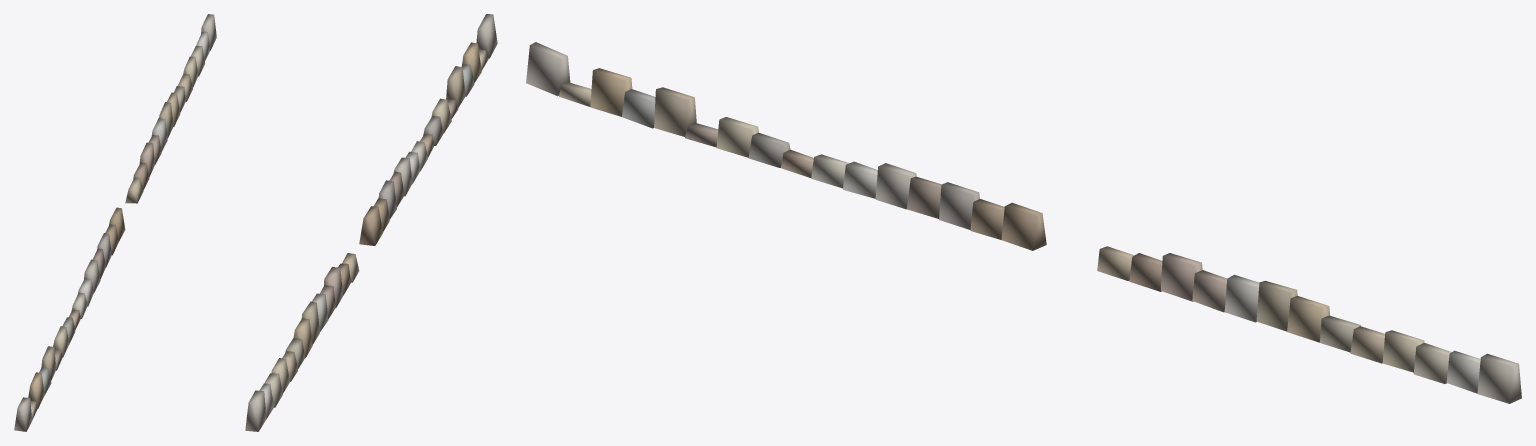
File: farm_-9_11_far.glb
3 renders of one model, left to right at view 1: azimuth 30°, elevation 25°; view 2: azimuth 210°, elevation 25°; view 3: azimuth 270°, elevation 25°, orthographic. The views are drawn at different scales.
Parts seen in each view (by area): view 1: geometry_0; view 2: geometry_0; view 3: geometry_0.
Boxes of the visible parts, x1,y1,x2,y2 form: geometry_0: [14, 14, 216, 431]; geometry_0: [245, 14, 497, 431]; geometry_0: [526, 42, 1521, 403].
Size of the model in its own units: 33.71 by 4.1 by 36.25.
